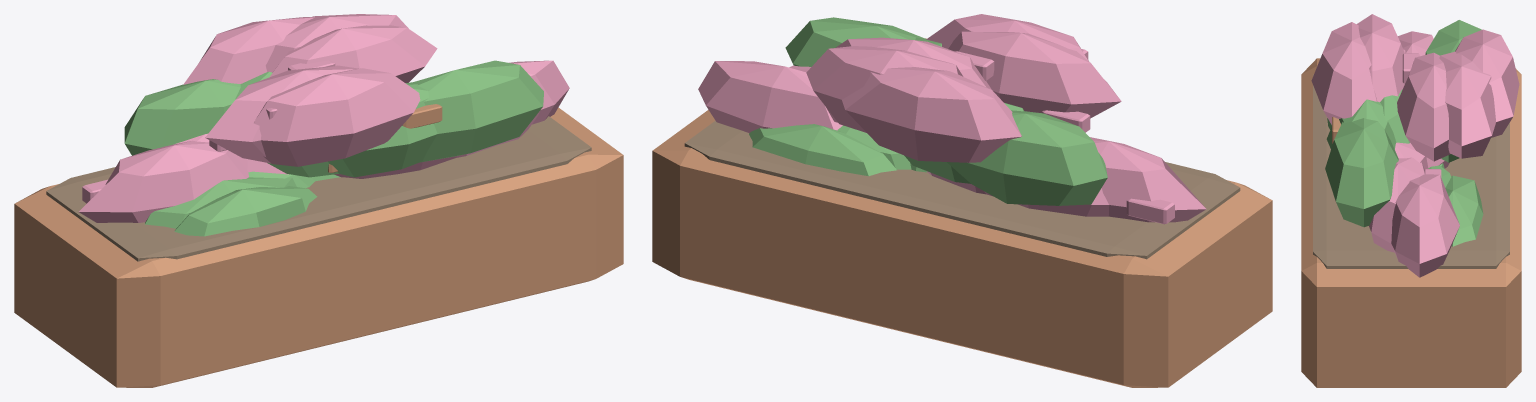
The model's file is b08_raised_perennial_bed.glb.
The picture shows the model from 3 angles, left to right: view 1: azimuth 30°, elevation 25°; view 2: azimuth 150°, elevation 25°; view 3: azimuth 270°, elevation 25°; orthographic projection. The views are drawn at different scales.
Visible parts, largest first — view 1: b08_raised_perennial_bed; view 2: b08_raised_perennial_bed; view 3: b08_raised_perennial_bed.
Part boxes in pixels (x1,y1,x2,y2): b08_raised_perennial_bed: [14, 14, 623, 387]; b08_raised_perennial_bed: [652, 14, 1272, 387]; b08_raised_perennial_bed: [1301, 14, 1521, 387].
Size of the model in its own units: 2.69 by 1.27 by 1.09.
